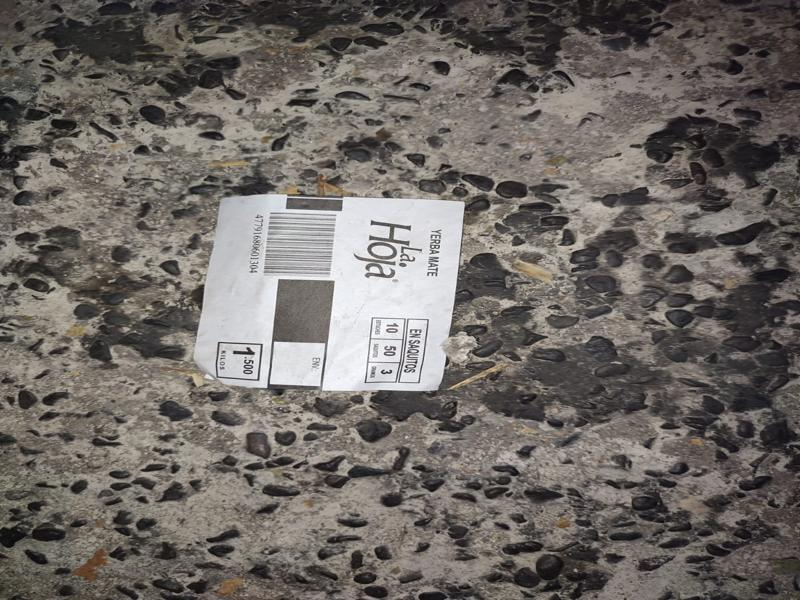papel: (189, 194, 467, 396)
